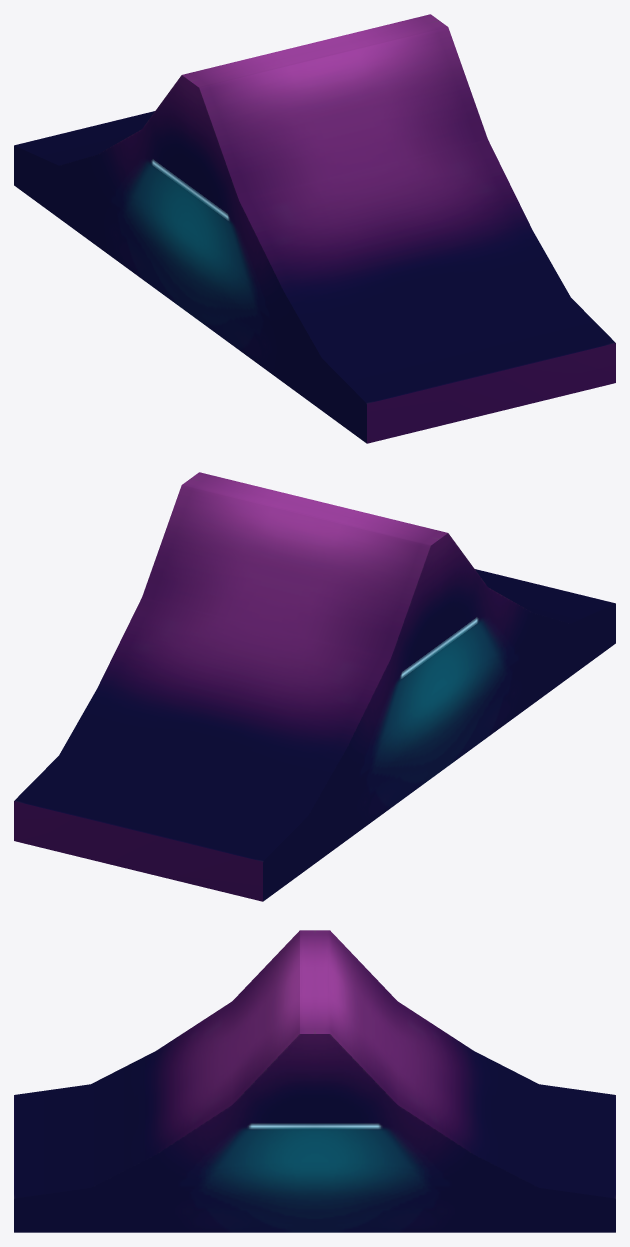
Rendered from urban_halframp.gltf.
3 renders of one model, top to bottom at view 1: azimuth 30°, elevation 25°; view 2: azimuth 150°, elevation 25°; view 3: azimuth 270°, elevation 25°, orthographic. The views are drawn at different scales.
Parts seen in each view (by area): view 1: urban_halframp_glb; view 2: urban_halframp_glb; view 3: urban_halframp_glb.
Part boxes in pixels (x1,y1,x2,y2): urban_halframp_glb: [14, 14, 615, 443]; urban_halframp_glb: [14, 472, 615, 901]; urban_halframp_glb: [14, 930, 615, 1232].
Size of what is drawn, in the model's own units: 1.63 by 1.46 by 4.
Materials: 1 (1 with a texture image).
